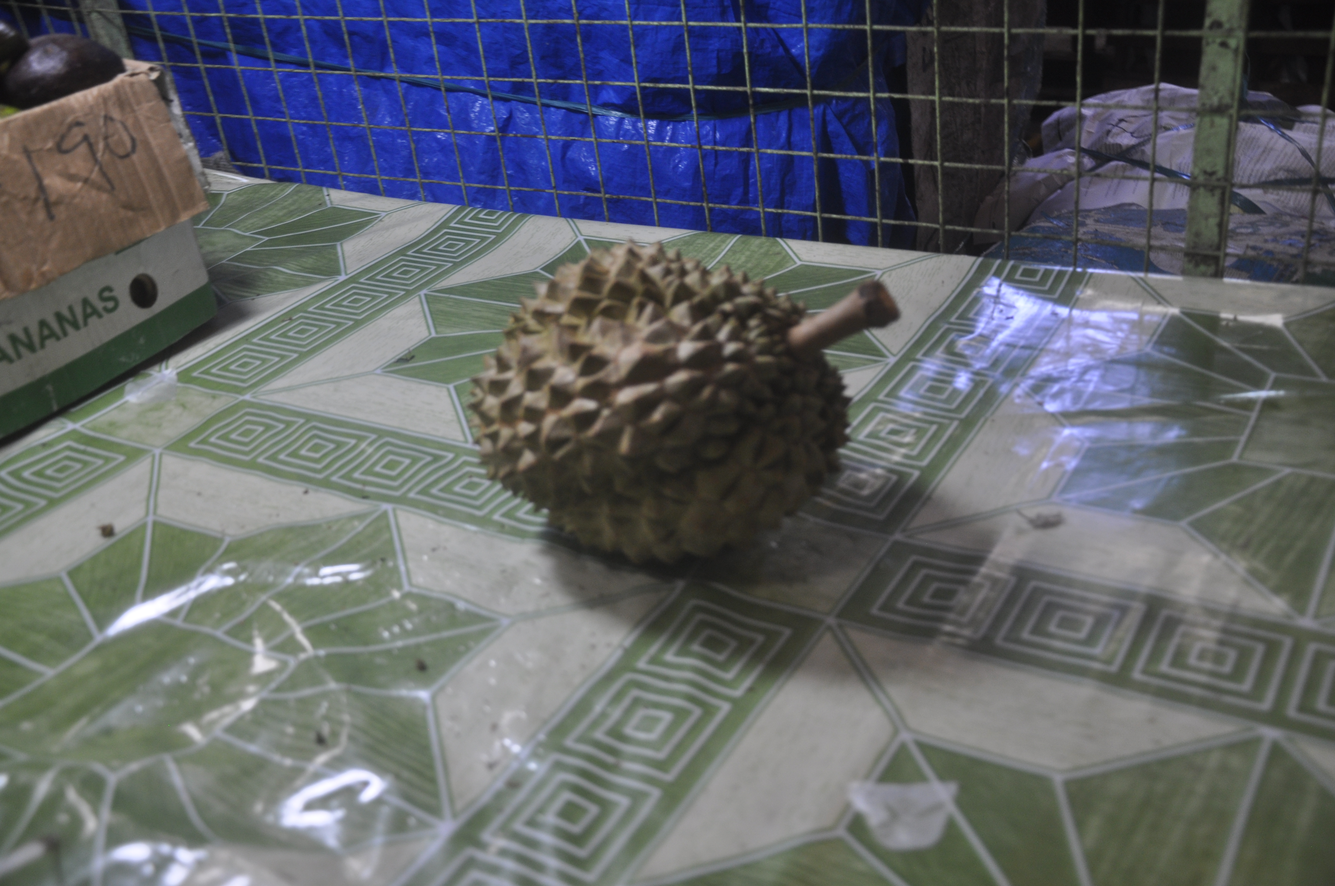mature: (469, 240, 897, 562)
